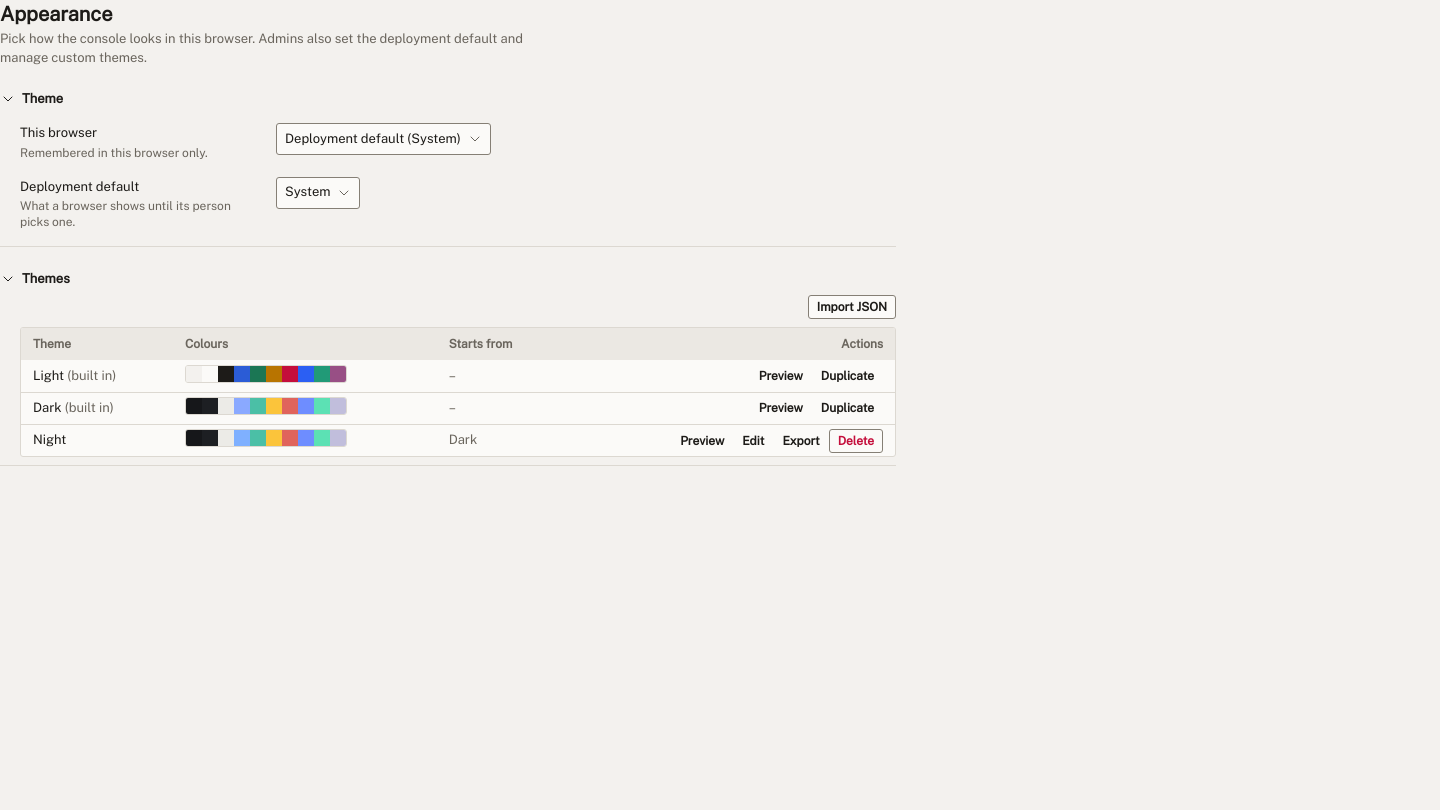
Test case: AppearancePage › shows the controller's refusal when a theme cannot be saved
The image size is (1440, 810).
Expected: the cell "Night" is shown, [21, 424, 173, 456]
Click the button with aria-label "Edit Night". click: point(753, 441)
box: [733, 429, 774, 453]
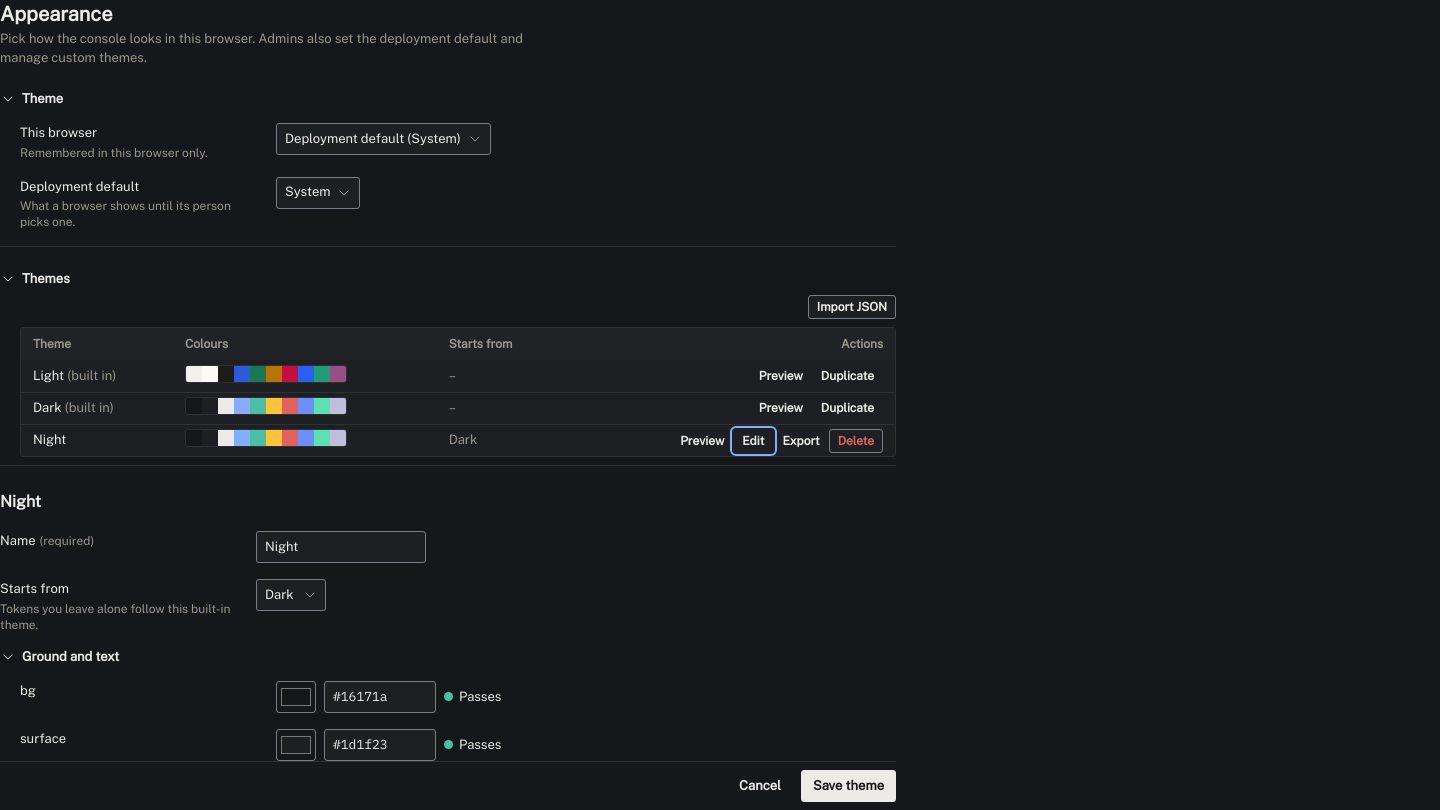
Click the button "Save theme". click: point(848, 786)
box: [801, 770, 896, 802]
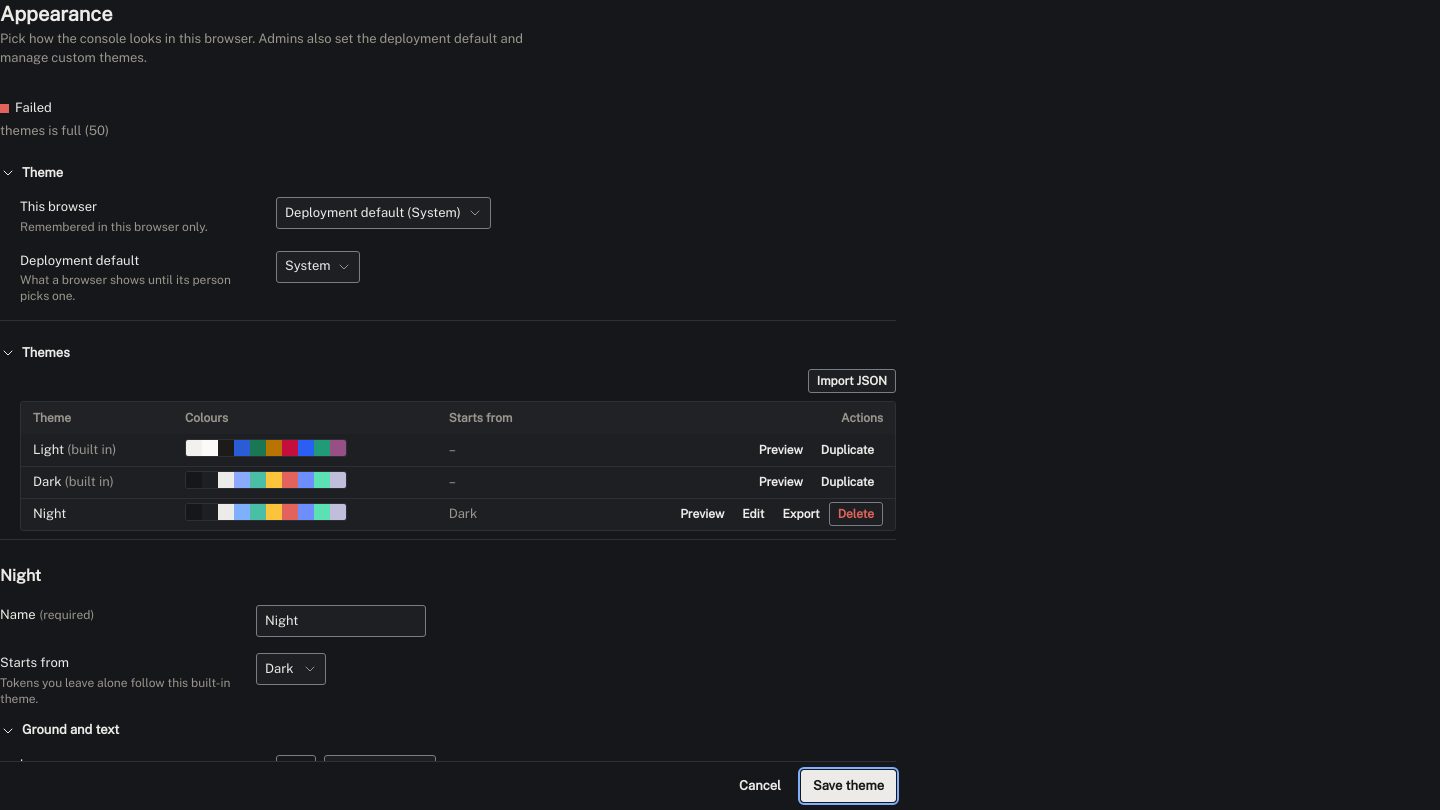
Expected: the text "themes is full (50)" is shown, [0, 124, 109, 138]
